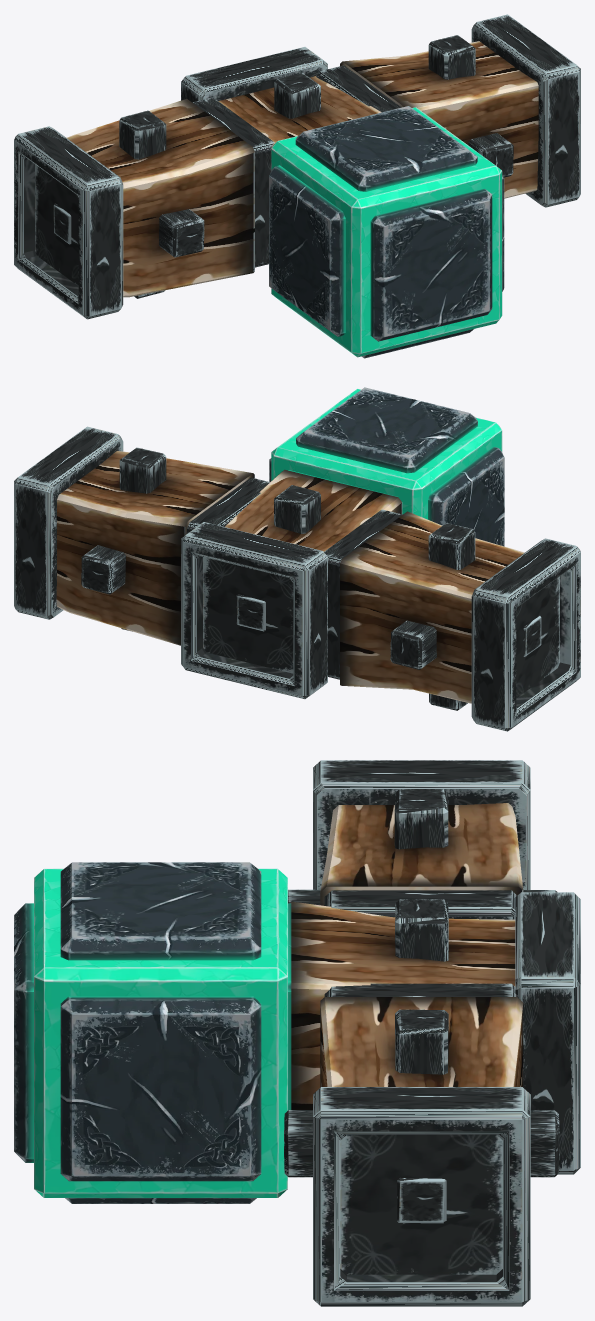
Rendered from step_004.glb.
3 renders of one model, top to bottom at view 1: azimuth 30°, elevation 25°; view 2: azimuth 150°, elevation 25°; view 3: azimuth 270°, elevation 25°, orthographic. The views are drawn at different scales.
Parts seen in each view (by area): view 1: SingleWoodenBlock_32856871-96a6-441d-8837-d6a82de26968, StartingBlock_d7d2bf83-0919-4c44-9370-c29925fc2410; view 2: SingleWoodenBlock_32856871-96a6-441d-8837-d6a82de26968, StartingBlock_d7d2bf83-0919-4c44-9370-c29925fc2410; view 3: SingleWoodenBlock_32856871-96a6-441d-8837-d6a82de26968, StartingBlock_d7d2bf83-0919-4c44-9370-c29925fc2410.
Part boxes in pixels (left/top/right/bottom): SingleWoodenBlock_32856871-96a6-441d-8837-d6a82de26968: left=14, top=14, right=580, bottom=319; StartingBlock_d7d2bf83-0919-4c44-9370-c29925fc2410: left=269, top=106, right=504, bottom=358; SingleWoodenBlock_32856871-96a6-441d-8837-d6a82de26968: left=14, top=426, right=580, bottom=731; StartingBlock_d7d2bf83-0919-4c44-9370-c29925fc2410: left=269, top=387, right=504, bottom=546; SingleWoodenBlock_32856871-96a6-441d-8837-d6a82de26968: left=284, top=760, right=580, bottom=1306; StartingBlock_d7d2bf83-0919-4c44-9370-c29925fc2410: left=14, top=862, right=291, bottom=1203.
Size of the model in its own units: 3.22 by 1.13 by 2.17.
2 materials, 2 textured.
